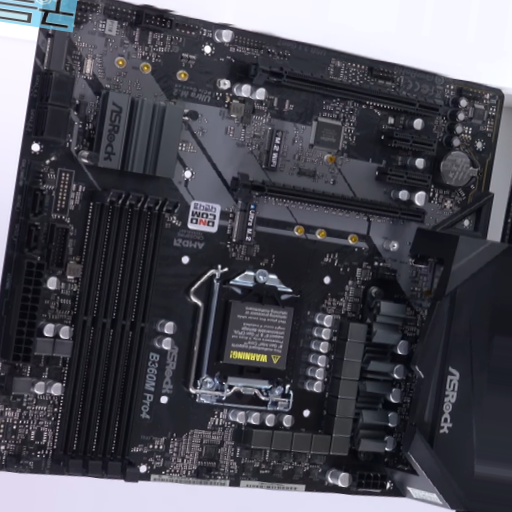CPU: (196, 267, 301, 415)
GPU: (253, 53, 441, 122), (233, 171, 426, 223)
MOTHERBOARD: (1, 1, 502, 500)
RAM: (55, 190, 182, 478)
SSD: (234, 199, 258, 246), (260, 128, 285, 170)
